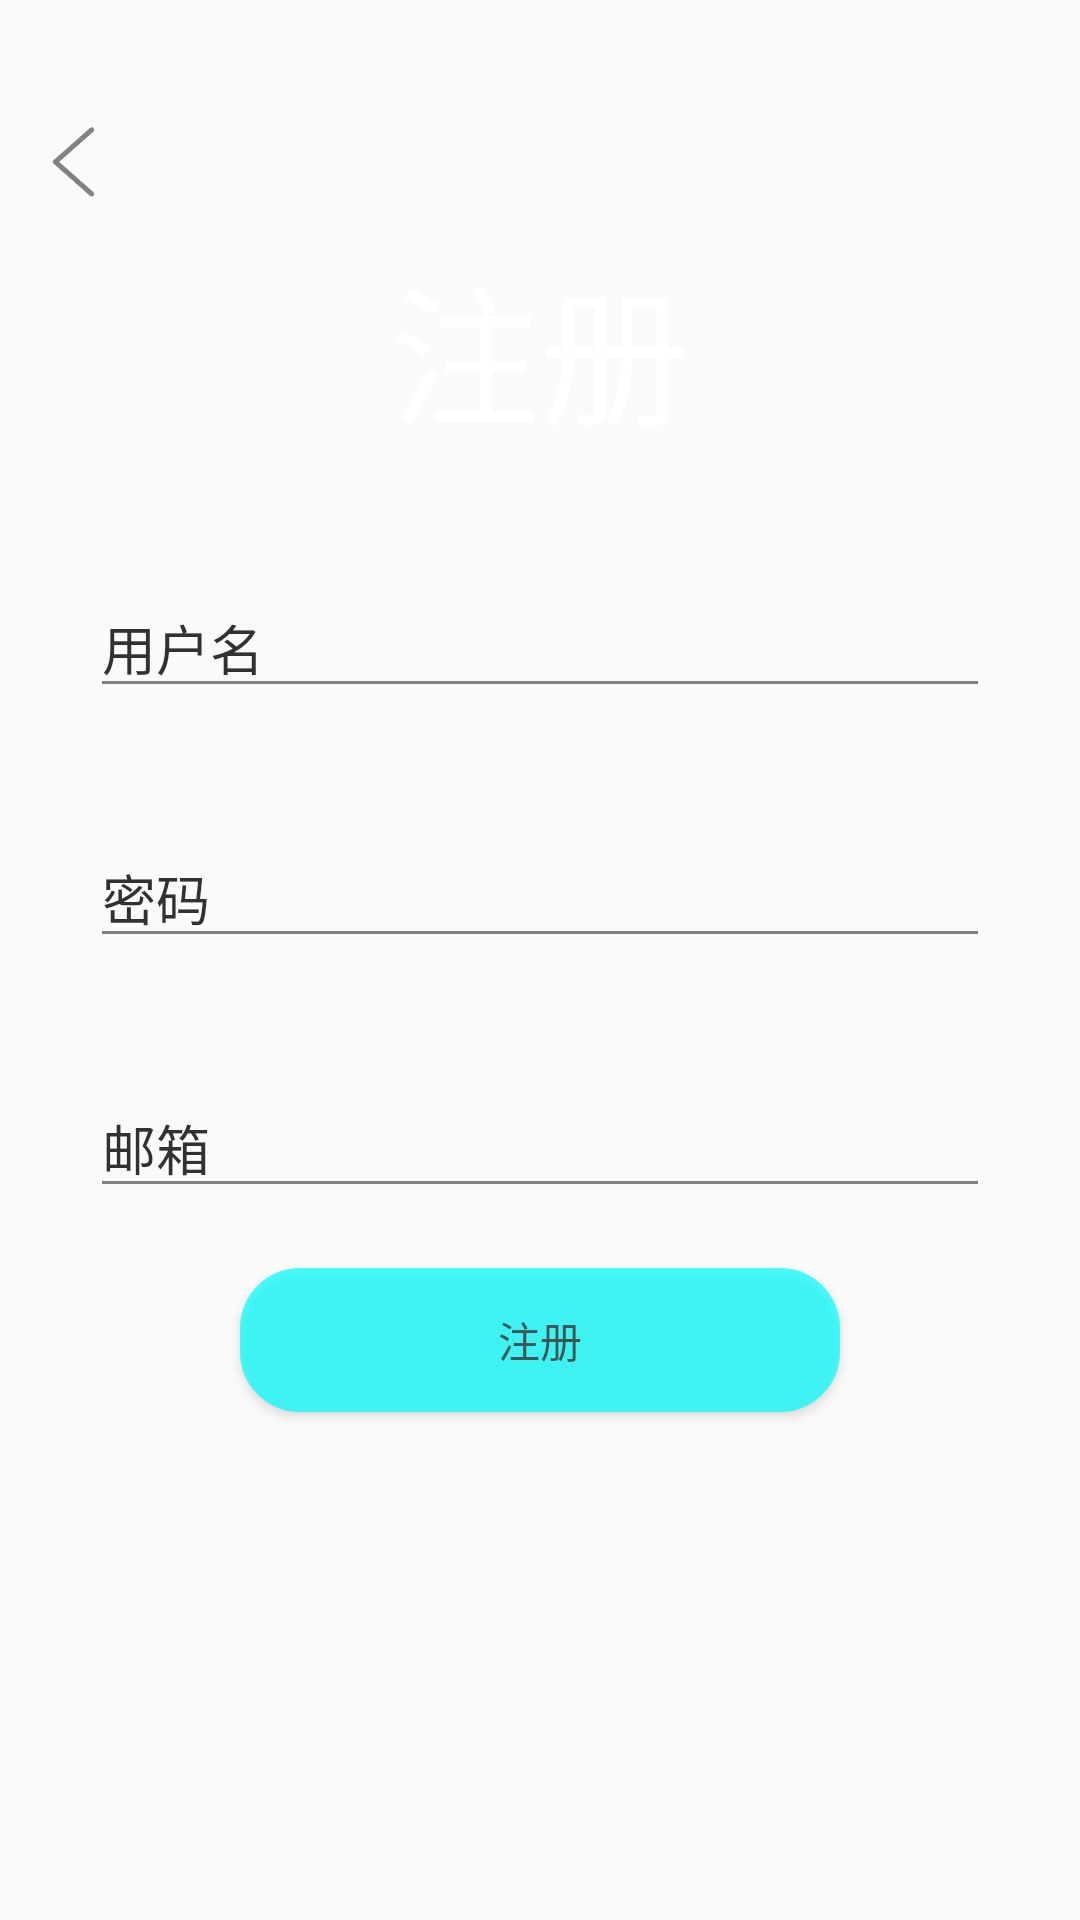

Point at icon controls on the screen. Image size 1080 × 1920, points as point (x, y).
back: point (73, 162)
